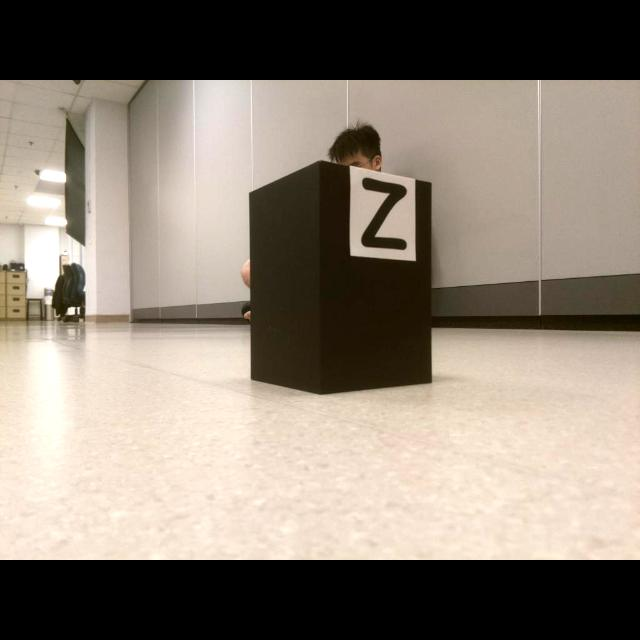Z: (361, 178, 407, 250)
